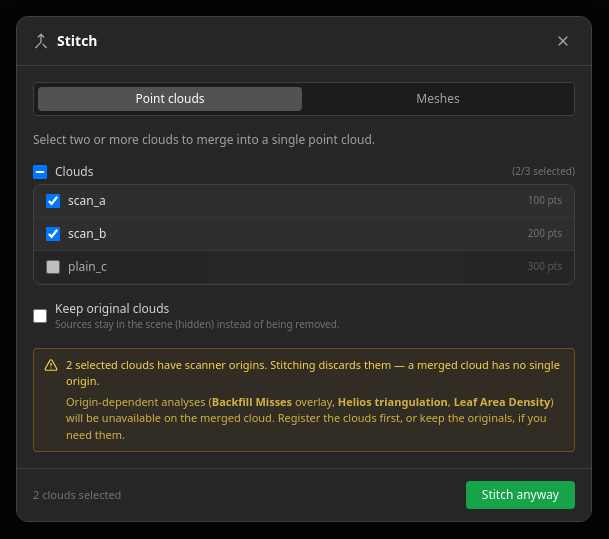
Test: StitchDialog mesh mode › never shows the scanner-origin warning in mesh mode
This screenshot has width=609, height=539.
Check: the element with test id "stitch-origin-warning" is shown, box 33,348 -> 575,452
Click the button "Meshes".
click(438, 99)  # box 306,87 -> 570,111
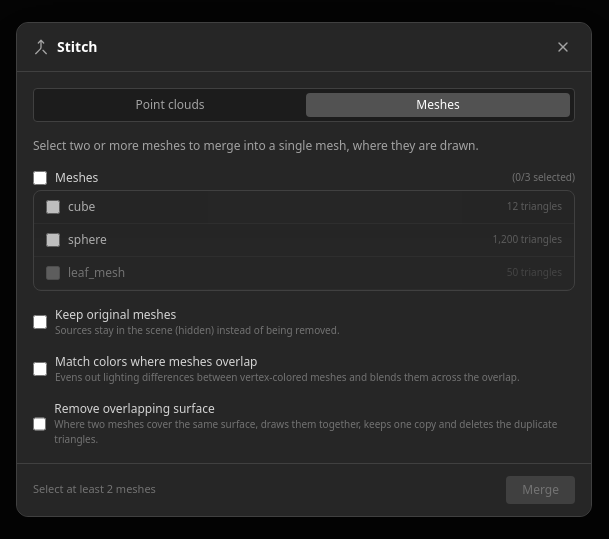
Check: the element with test id "stitch-origin-warning" is gone
// …and the cloud picks survive the round trip.
Click the button "Point clouds".
click(170, 104)  # box 38,92 -> 302,116
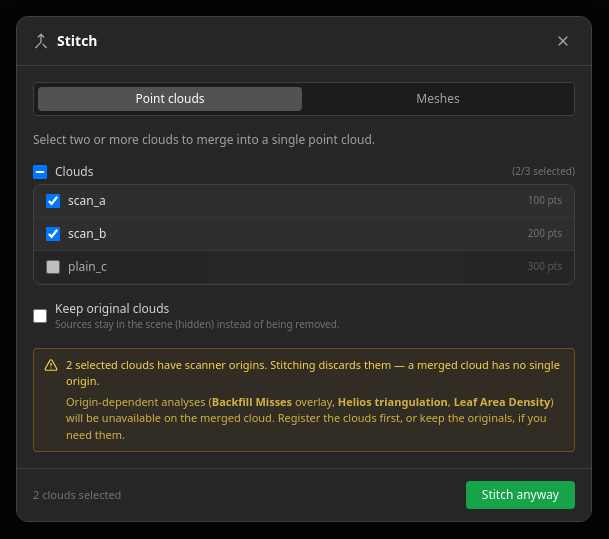
Check: the button with test id "stitch-run" reads "Stitch anyway", box 466,481 -> 575,509
